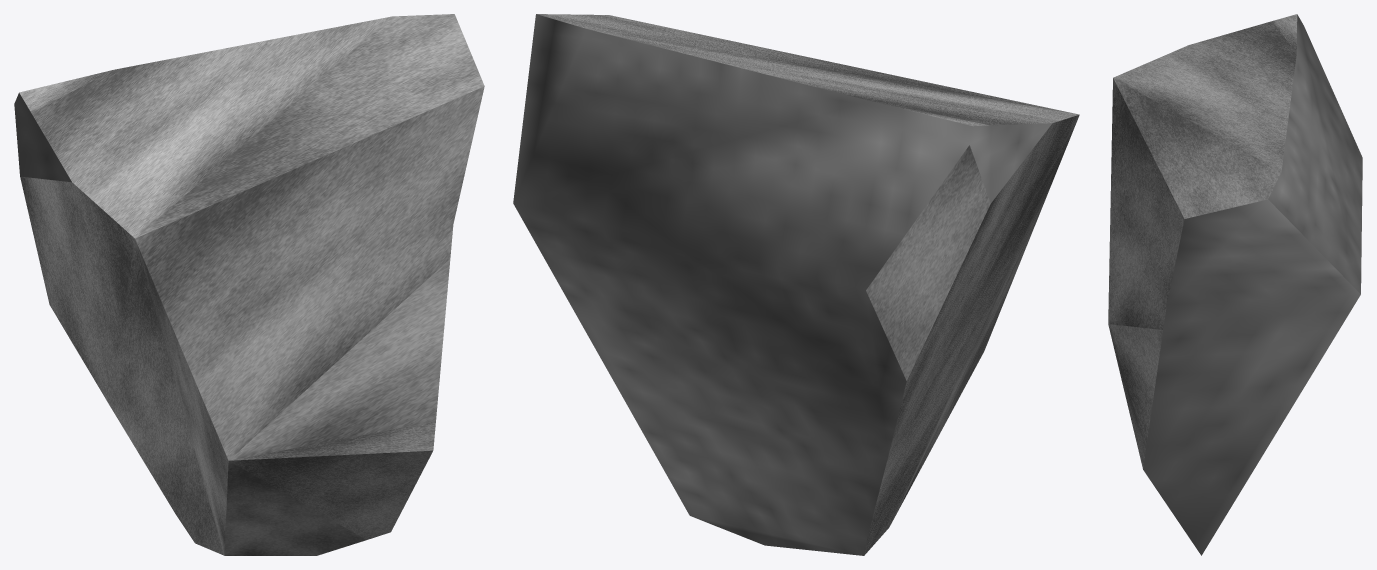
Rendered from leg_1_cell_012.fbx.
3 views of the same model, side by side, from view 1: azimuth 30°, elevation 25°; view 2: azimuth 150°, elevation 25°; view 3: azimuth 270°, elevation 25° (orthographic). The views are drawn at different scales.
Visible parts, largest first — view 1: leg_1_cell.012; view 2: leg_1_cell.012; view 3: leg_1_cell.012.
Part boxes in pixels (bbox=[...]): leg_1_cell.012: bbox=[14, 14, 484, 555]; leg_1_cell.012: bbox=[513, 14, 1079, 555]; leg_1_cell.012: bbox=[1108, 14, 1362, 555].
Bounding box in the file's own units: 22.57 × 24.35 × 13.5.
